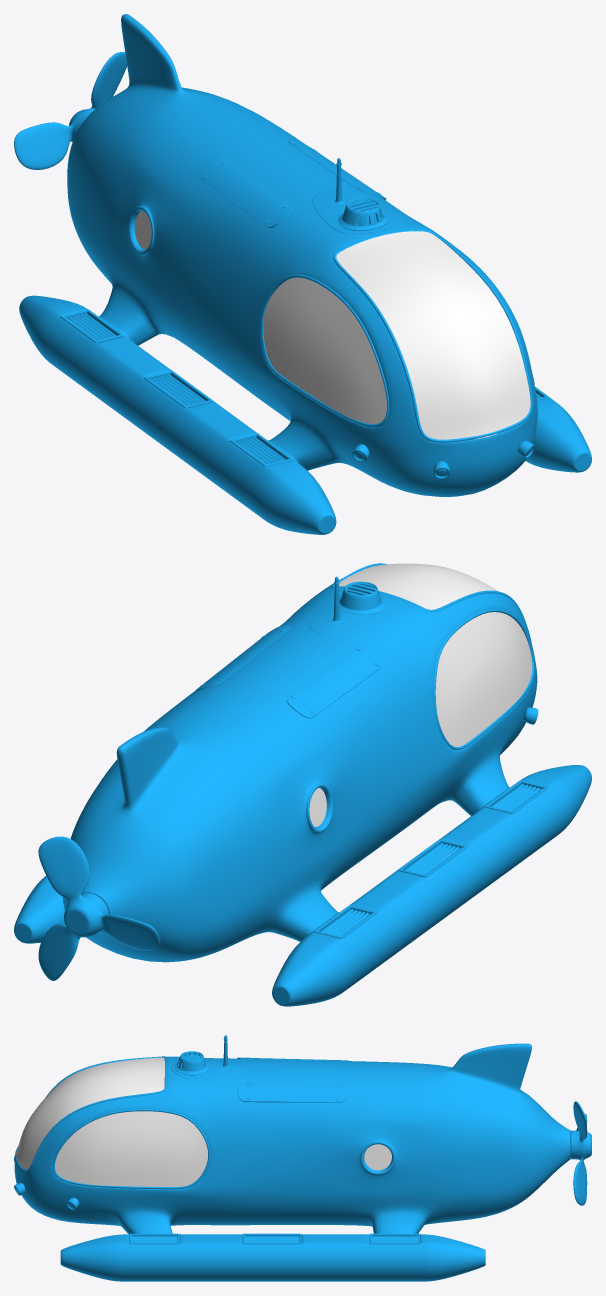
File: compressed submarine.glb
The picture shows the model from 3 angles, top to bottom: view 1: azimuth 30°, elevation 25°; view 2: azimuth 150°, elevation 25°; view 3: azimuth 270°, elevation 25°; orthographic projection. The views are drawn at different scales.
Parts seen in each view (by area): view 1: body_mesh, front_visors_mesh, propeller_mesh, antenna_mesh, lights_mesh; view 2: body_mesh, front_visors_mesh, propeller_mesh, antenna_mesh; view 3: body_mesh, front_visors_mesh, antenna_mesh, propeller_mesh, back_visors_mesh.
Boxes of the visible parts, x1,y1,x2,y2 form: body_mesh: [19, 14, 591, 534]; front_visors_mesh: [263, 231, 530, 439]; propeller_mesh: [14, 52, 127, 169]; antenna_mesh: [312, 158, 394, 233]; lights_mesh: [352, 405, 538, 478]; body_mesh: [14, 563, 591, 1006]; front_visors_mesh: [338, 563, 532, 746]; propeller_mesh: [38, 836, 160, 980]; antenna_mesh: [309, 576, 392, 635]; body_mesh: [14, 1043, 570, 1281]; front_visors_mesh: [15, 1057, 207, 1186]; antenna_mesh: [171, 1035, 247, 1078]; propeller_mesh: [570, 1101, 591, 1205]; back_visors_mesh: [364, 1144, 391, 1170].
Bounding box in the file's own units: 2.83 × 2.42 × 6.38.
